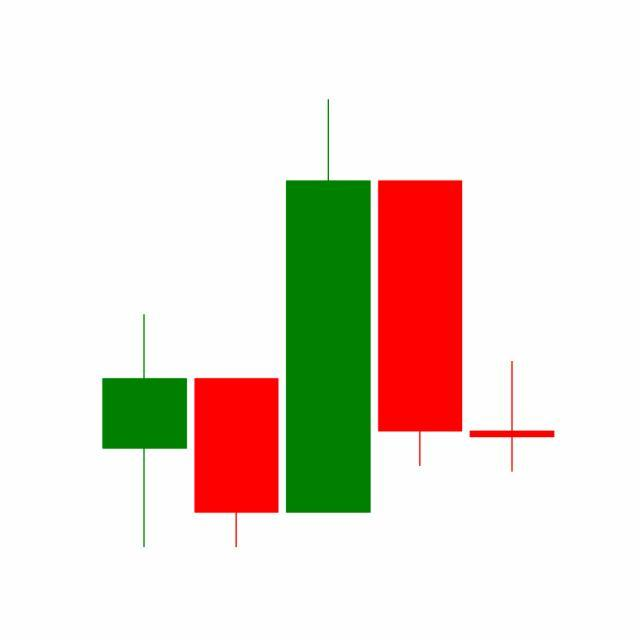Spinning Top: (466, 359, 559, 474)
